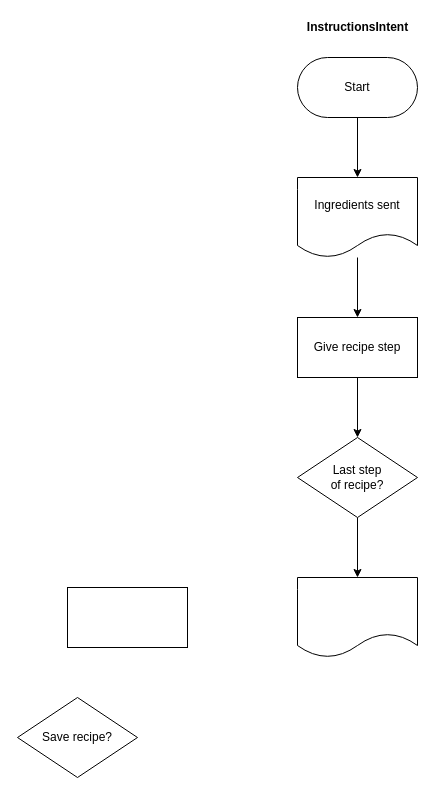
This 435x795 diagram has some shape labels left out. Here are the shapes that lost their labels. From the top down, the centre of each, then its label:
(x=127, y=617): Prompt User to save recipe
(x=357, y=617): Enjoy meal
